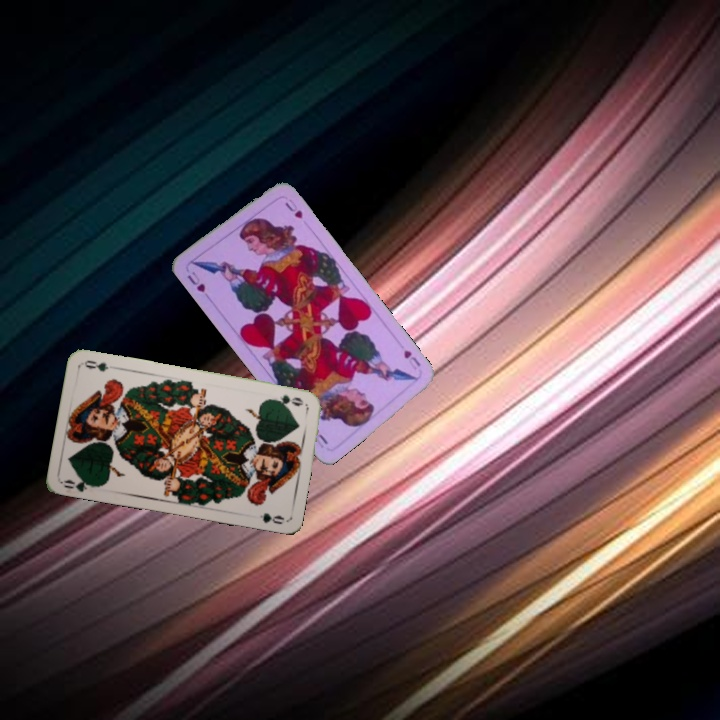GO: (60, 473, 101, 494), (267, 391, 306, 409)
HU: (183, 267, 208, 295), (399, 346, 423, 369)
